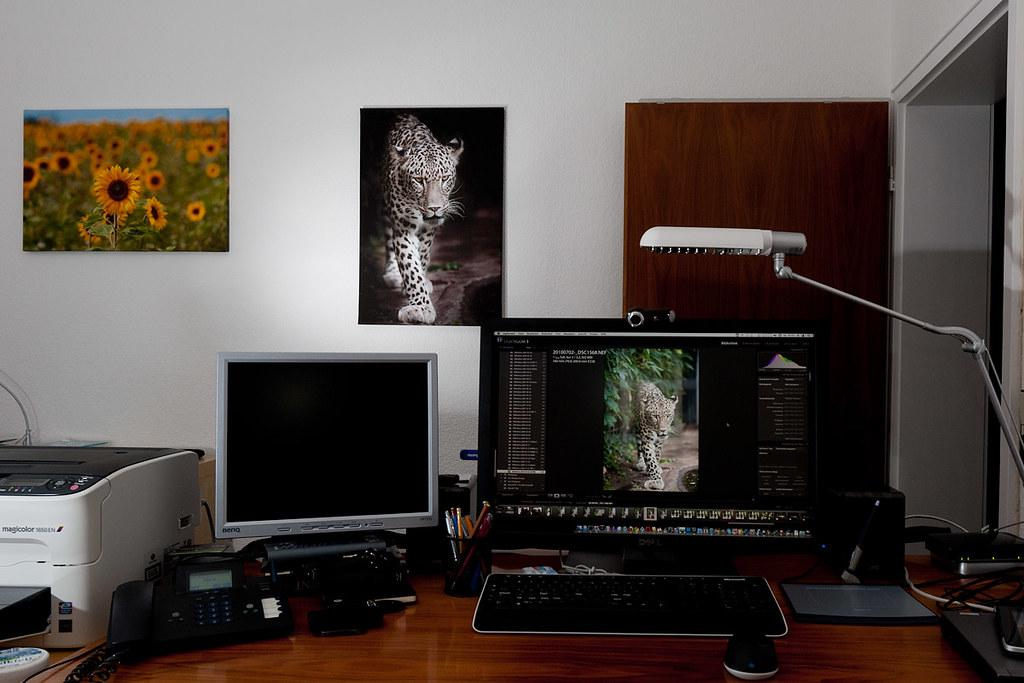computer: (472, 315, 827, 638), (214, 351, 440, 567)
